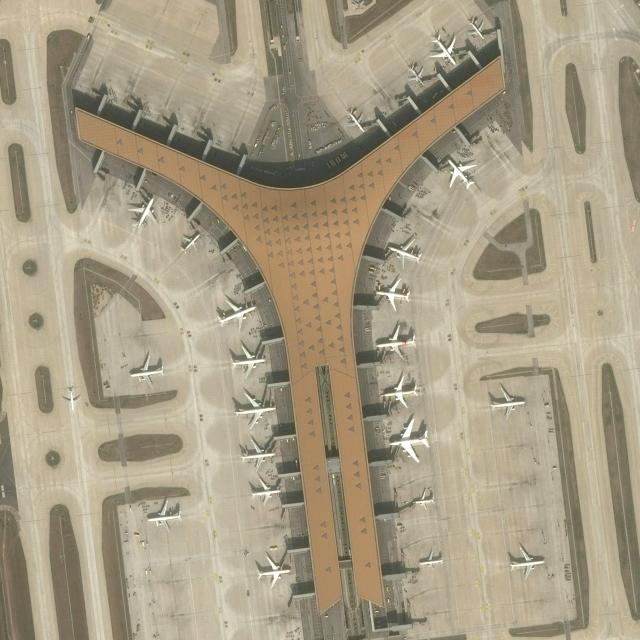aircraft: (388, 417, 430, 464), (232, 389, 278, 431), (374, 323, 418, 361), (378, 374, 421, 411), (228, 342, 268, 381), (507, 542, 548, 580), (215, 298, 259, 331), (253, 553, 292, 590), (236, 436, 276, 472), (376, 276, 412, 312), (146, 498, 182, 534), (488, 388, 528, 420), (128, 354, 163, 389), (128, 195, 159, 233), (387, 236, 422, 268), (427, 32, 459, 66), (248, 476, 284, 506), (446, 157, 478, 190), (416, 548, 446, 572), (61, 384, 82, 414), (344, 107, 368, 133), (178, 231, 204, 255), (410, 488, 436, 511), (465, 16, 487, 41), (407, 62, 427, 86)
